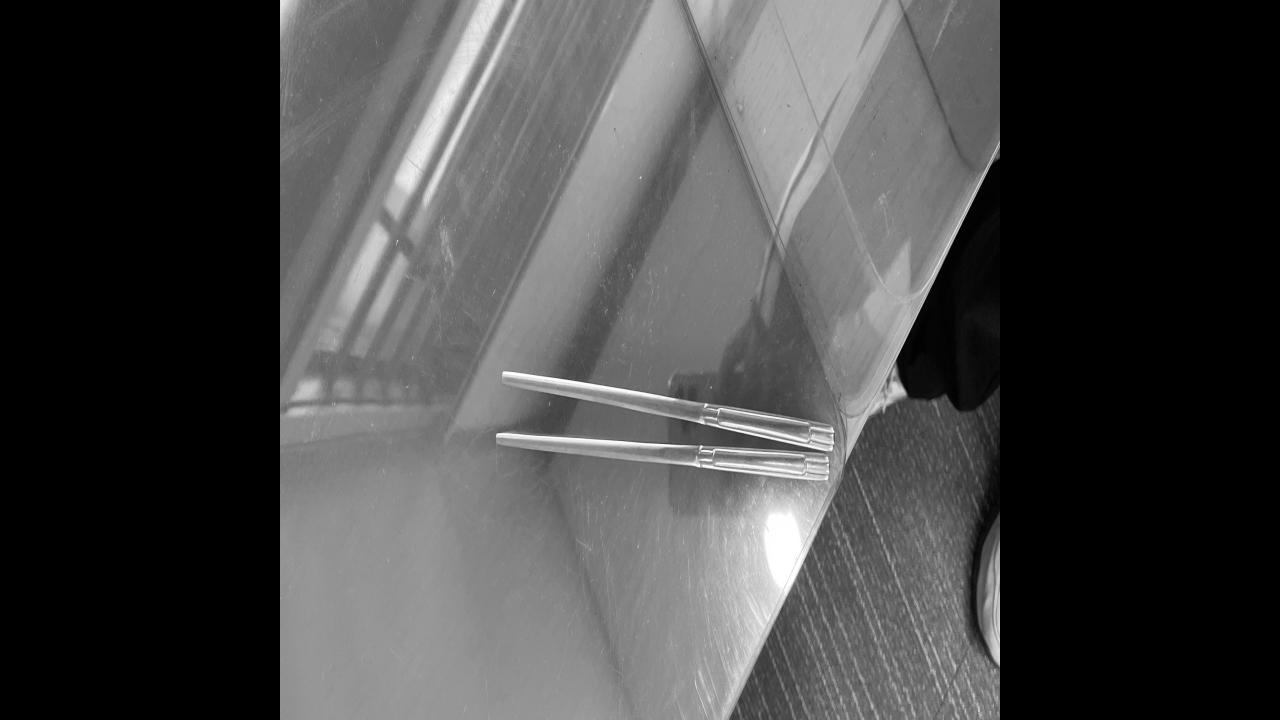chopstick: (495, 364, 831, 484)
